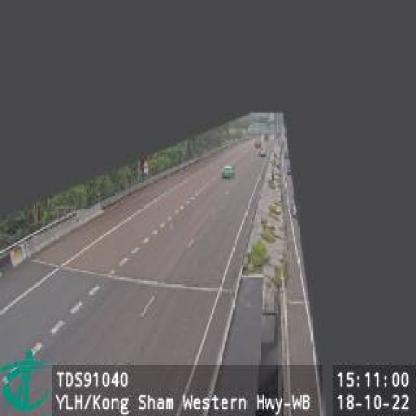Car: (221, 163, 235, 179)
